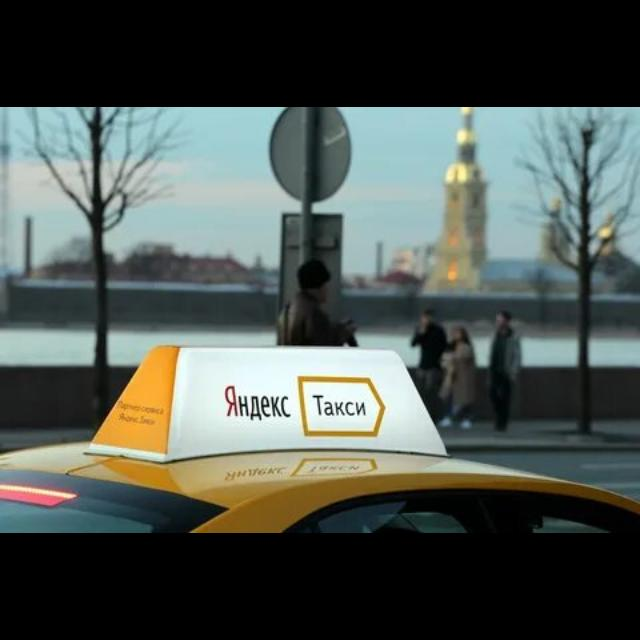taxi: (1, 345, 639, 534)
